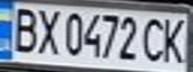0: (60, 9, 84, 57)
2: (115, 12, 142, 62)
4: (81, 10, 103, 58)
7: (100, 11, 121, 61)
B: (6, 3, 42, 54)
C: (139, 15, 169, 64)
K: (157, 15, 190, 65)
X: (33, 6, 63, 56)
